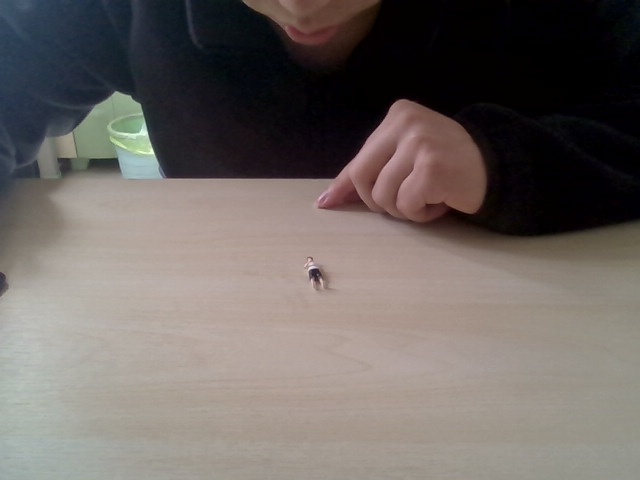fall: (299, 254, 329, 296)
